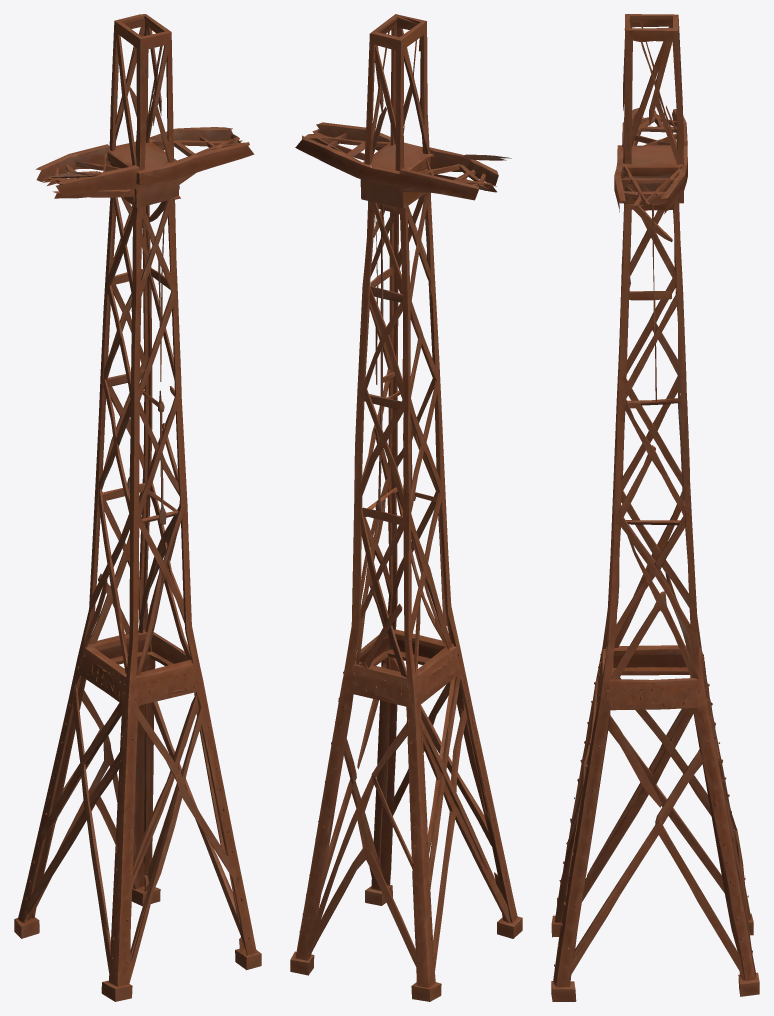
The model's file is ropeway_pylon.glb.
3 renders of one model, left to right at view 1: azimuth 30°, elevation 25°; view 2: azimuth 150°, elevation 25°; view 3: azimuth 270°, elevation 25°, orthographic. The views are drawn at different scales.
Parts seen in each view (by area): view 1: main; view 2: main; view 3: main.
Part boxes in pixels (x1=…): main: x1=14, y1=14, x2=261, y2=1001; main: x1=290, y1=14, x2=522, y2=1001; main: x1=551, y1=14, x2=759, y2=1001.
Size of the model in its own units: 1.01 by 4.25 by 0.8486.
1 material, 1 textured.
